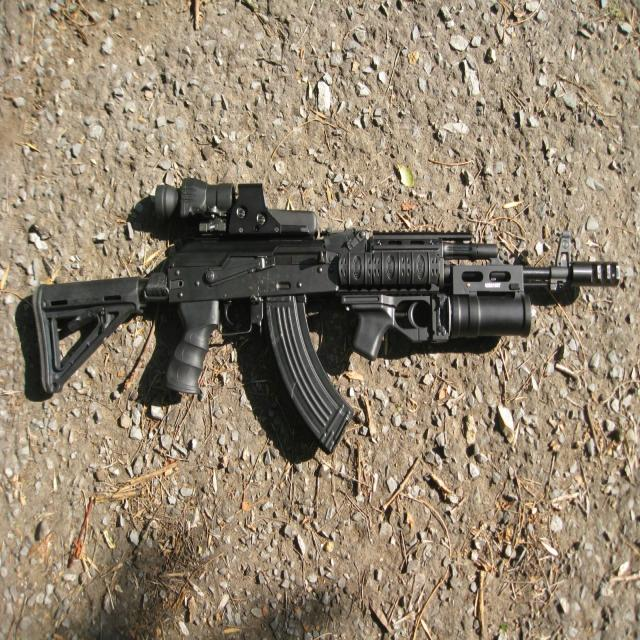firearm: (31, 175, 622, 457)
